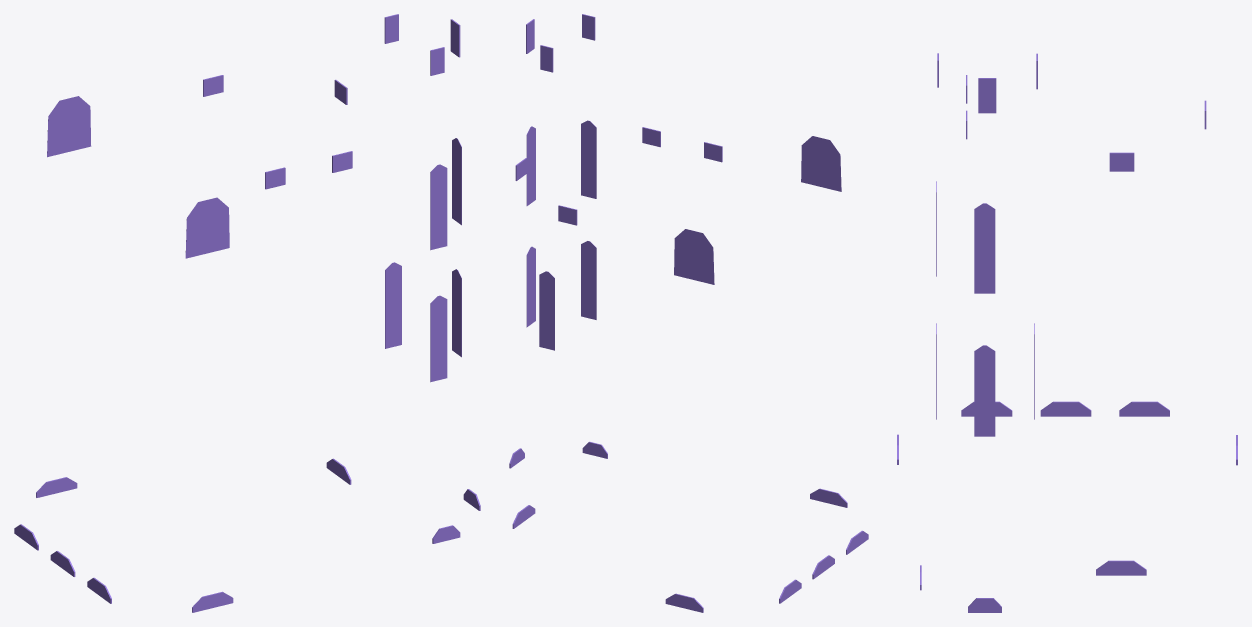
Rendered from WindowNotTransparent_VM.fbx.
The picture shows the model from 3 angles, left to right: view 1: azimuth 30°, elevation 25°; view 2: azimuth 150°, elevation 25°; view 3: azimuth 270°, elevation 25°; orthographic projection. The views are drawn at different scales.
Visible parts, largest first — view 1: WindowNotTransparent_VM; view 2: WindowNotTransparent_VM; view 3: WindowNotTransparent_VM.
Boxes of the visible parts, x1,y1,x2,y2 form: WindowNotTransparent_VM: [14, 14, 480, 612]; WindowNotTransparent_VM: [509, 14, 868, 612]; WindowNotTransparent_VM: [897, 53, 1237, 612].
Bounding box in the file's own units: 2375 × 2956 × 1735.
